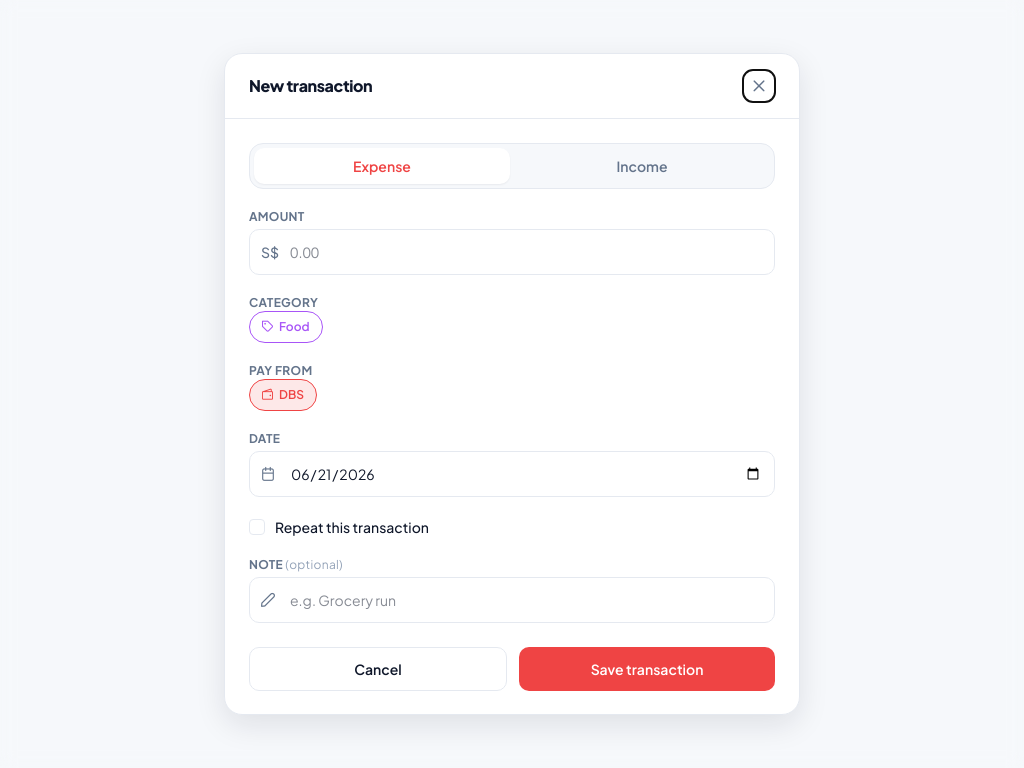
Test: AddTransactionModal › shows frequency pills when repeat checkbox is checked
The width and height of the screenshot is (1024, 768).
Click the checkbox labelled "Repeat this transaction": x=339, y=527 [249,518,429,536]
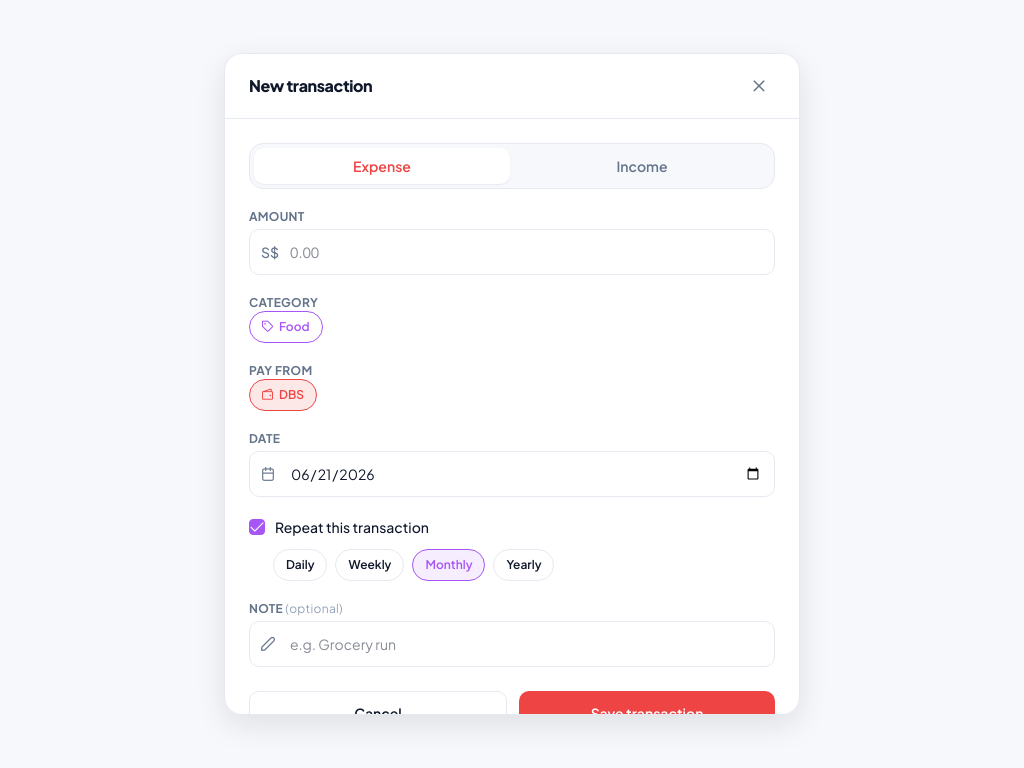
Check: the button "Monthly" is shown, box [426,557,472,573]
